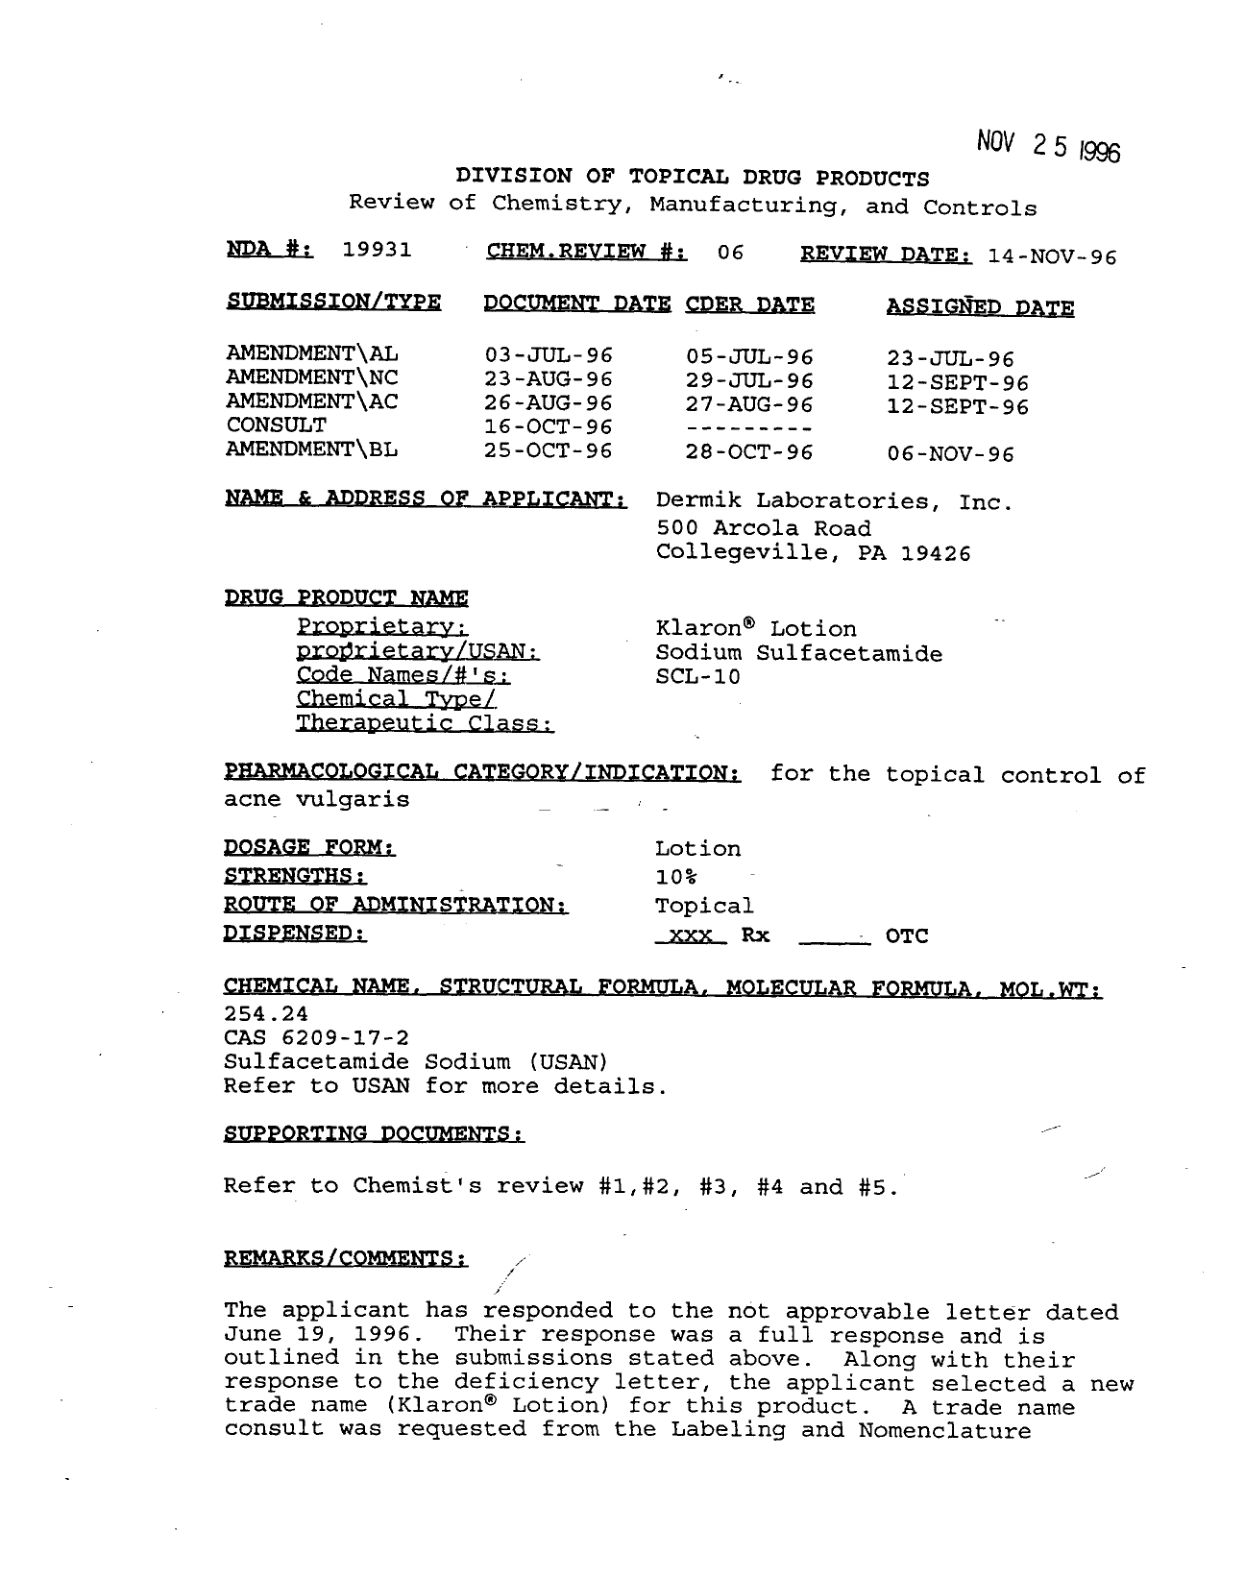nolines: (220, 479, 1011, 742), (222, 286, 1080, 464)
